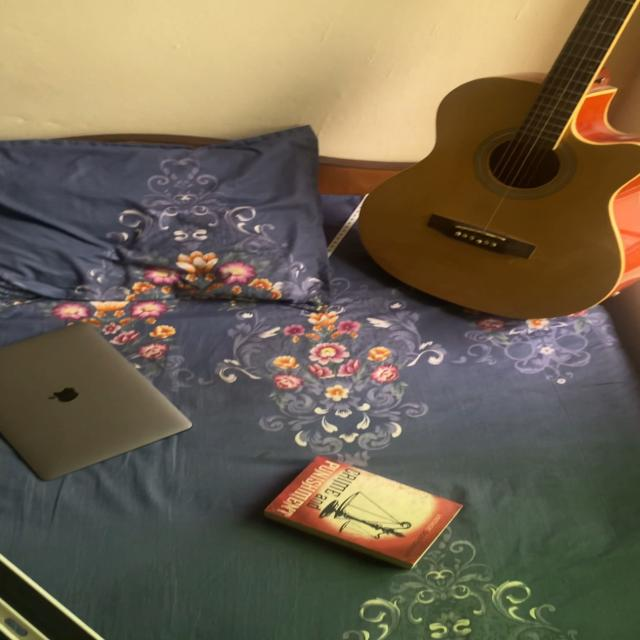book: (255, 452, 506, 570)
guitar: (346, 11, 640, 326)
laptop: (3, 318, 195, 488)
